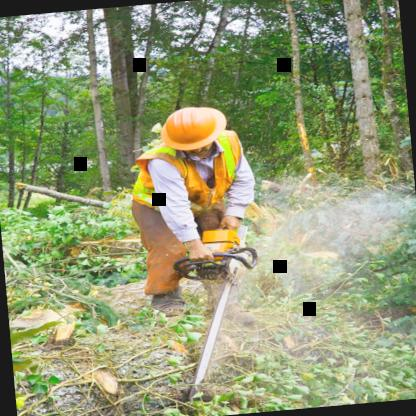helmet: (152, 101, 235, 168)
